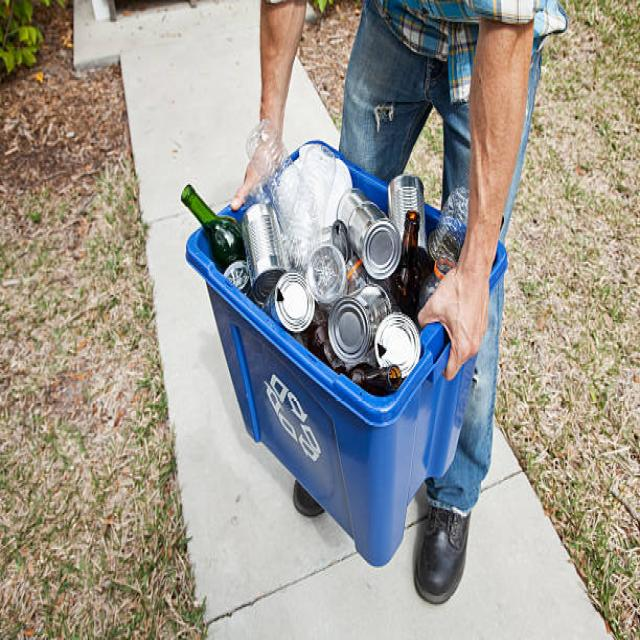glass: (179, 185, 231, 256), (395, 202, 430, 303)
metal: (253, 221, 394, 369)
plastic: (234, 126, 332, 217)
